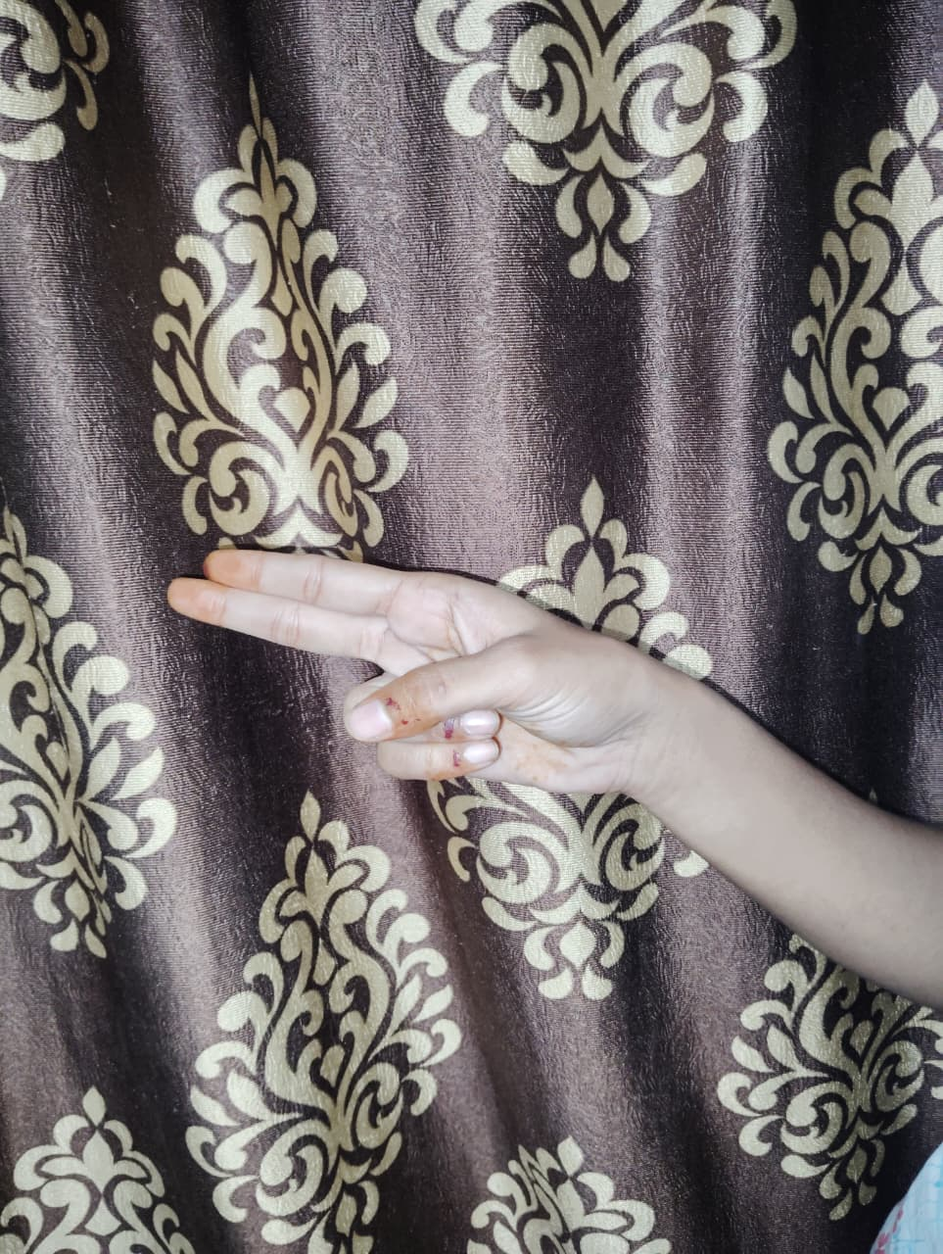H: (163, 547, 622, 791)
